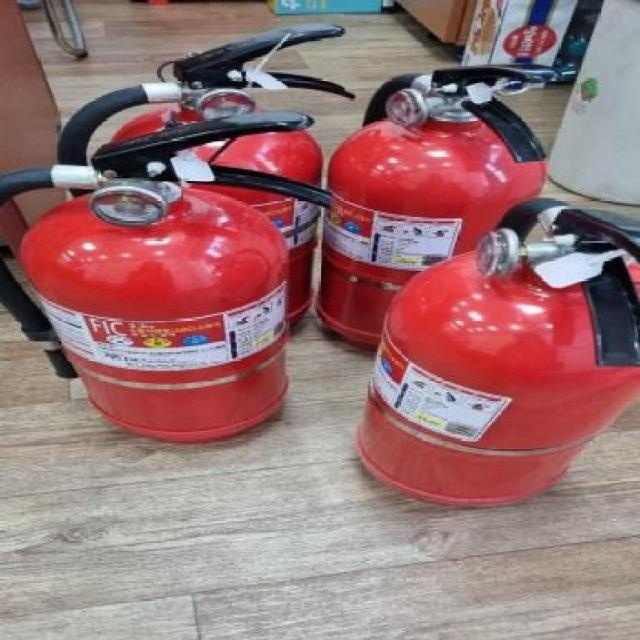fire extinguisher: (3, 111, 334, 446), (55, 23, 357, 329), (355, 196, 640, 509), (314, 63, 580, 349)
